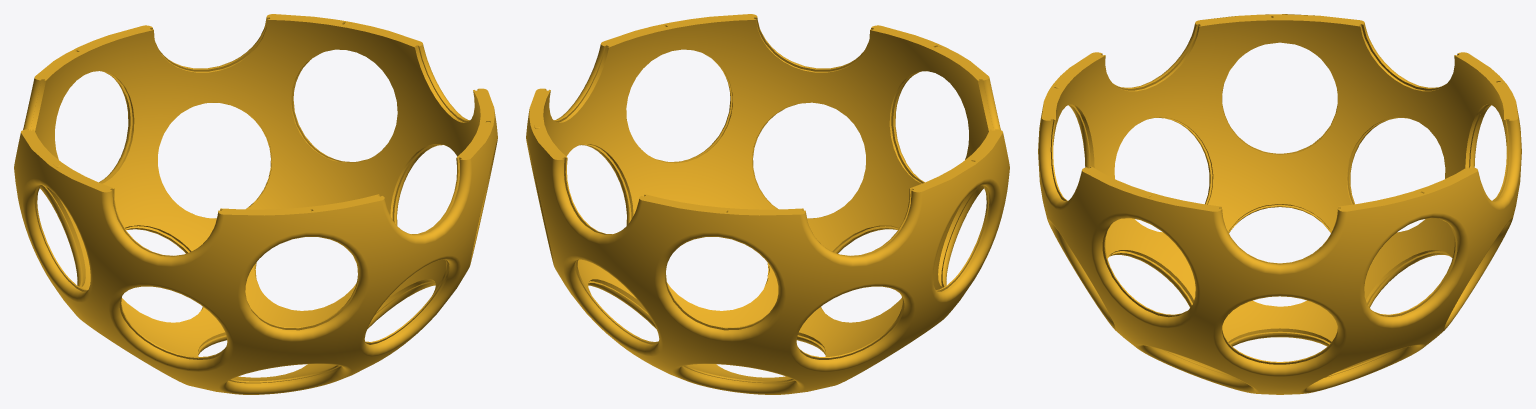
The model's file is domeee.fbx.
The picture shows the model from 3 angles, left to right: view 1: azimuth 30°, elevation 25°; view 2: azimuth 150°, elevation 25°; view 3: azimuth 270°, elevation 25°; orthographic projection.
Visible parts, largest first — view 1: MARK 7; view 2: MARK 7; view 3: MARK 7.
Boxes of the visible parts, left/top/right/bottom form: MARK 7: left=14, top=14, right=497, bottom=394; MARK 7: left=526, top=14, right=1009, bottom=394; MARK 7: left=1038, top=14, right=1521, bottom=394.
Size of the model in its own units: 11.66 by 6.66 by 11.71.
